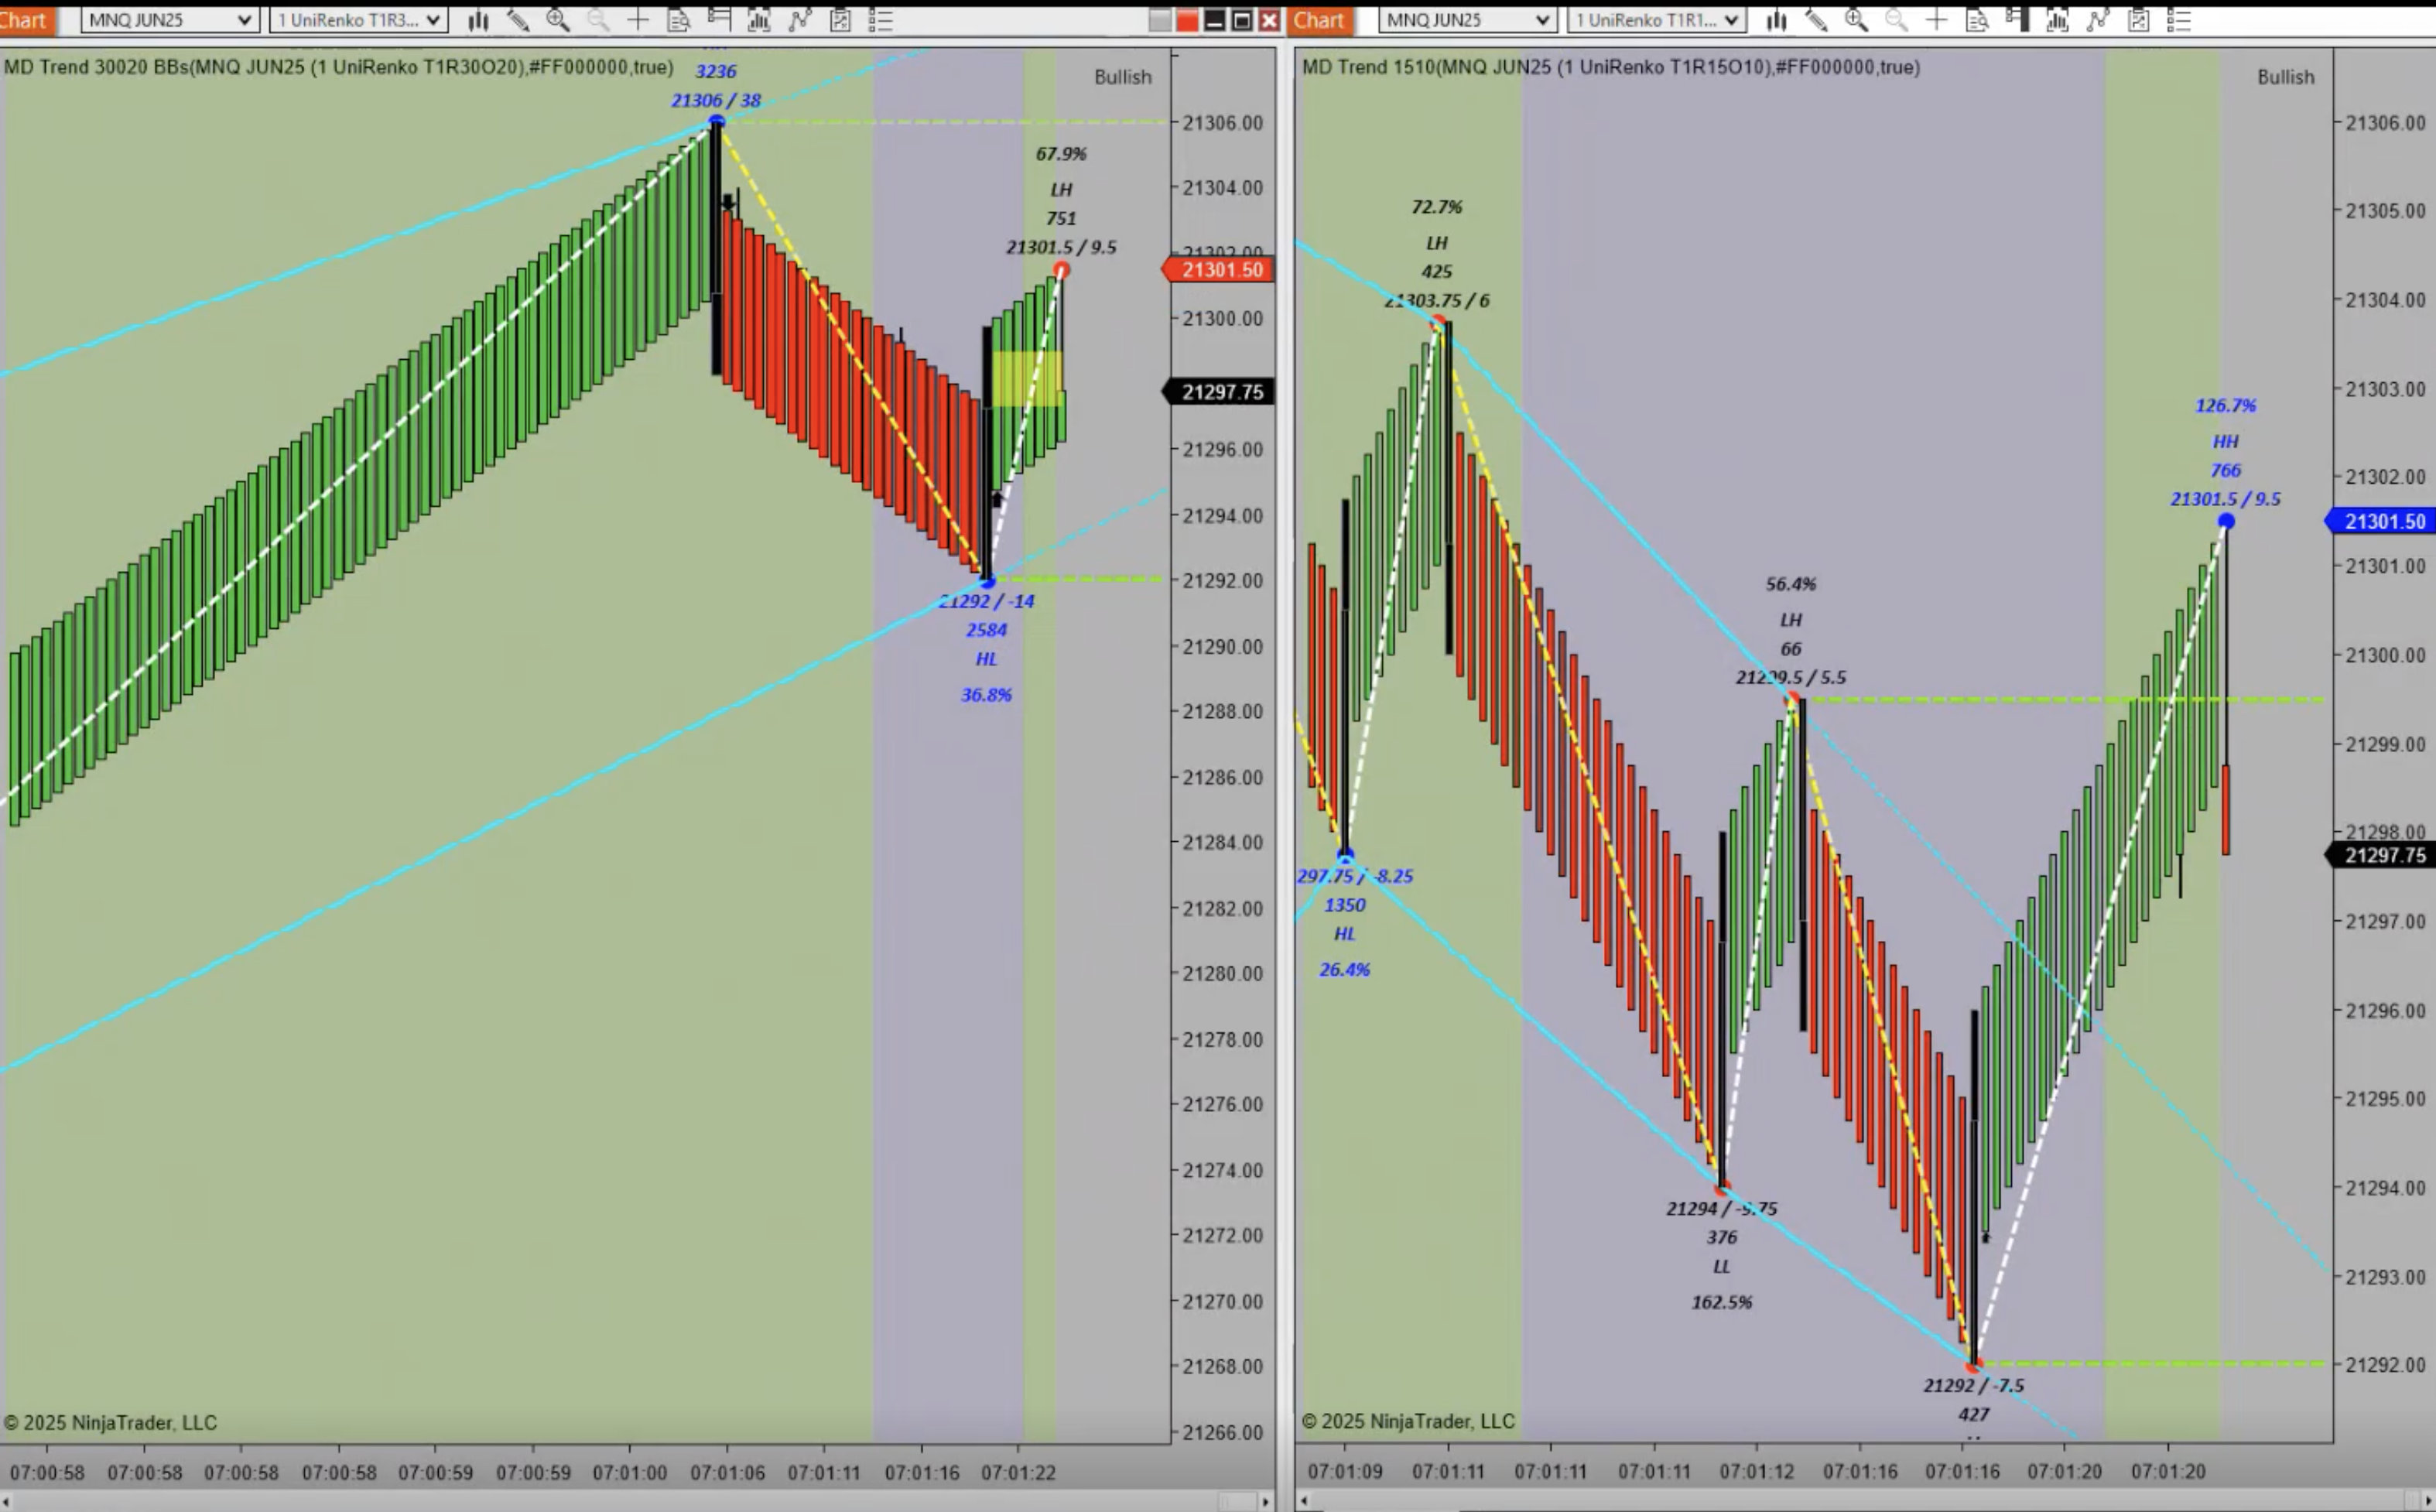candle: (1800, 700, 1820, 1040), (1339, 496, 1356, 861), (1442, 322, 1459, 662), (710, 118, 731, 385), (1968, 1010, 1983, 1360), (1720, 834, 1734, 1193), (980, 326, 999, 580)
